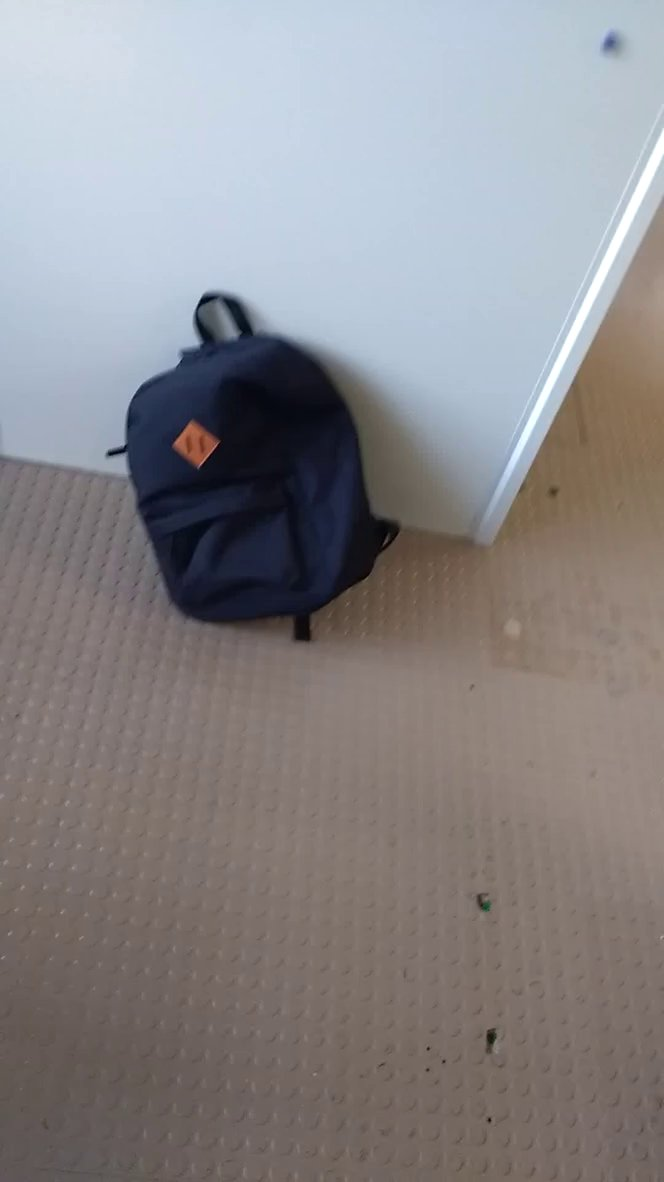bag: (96, 286, 408, 655)
